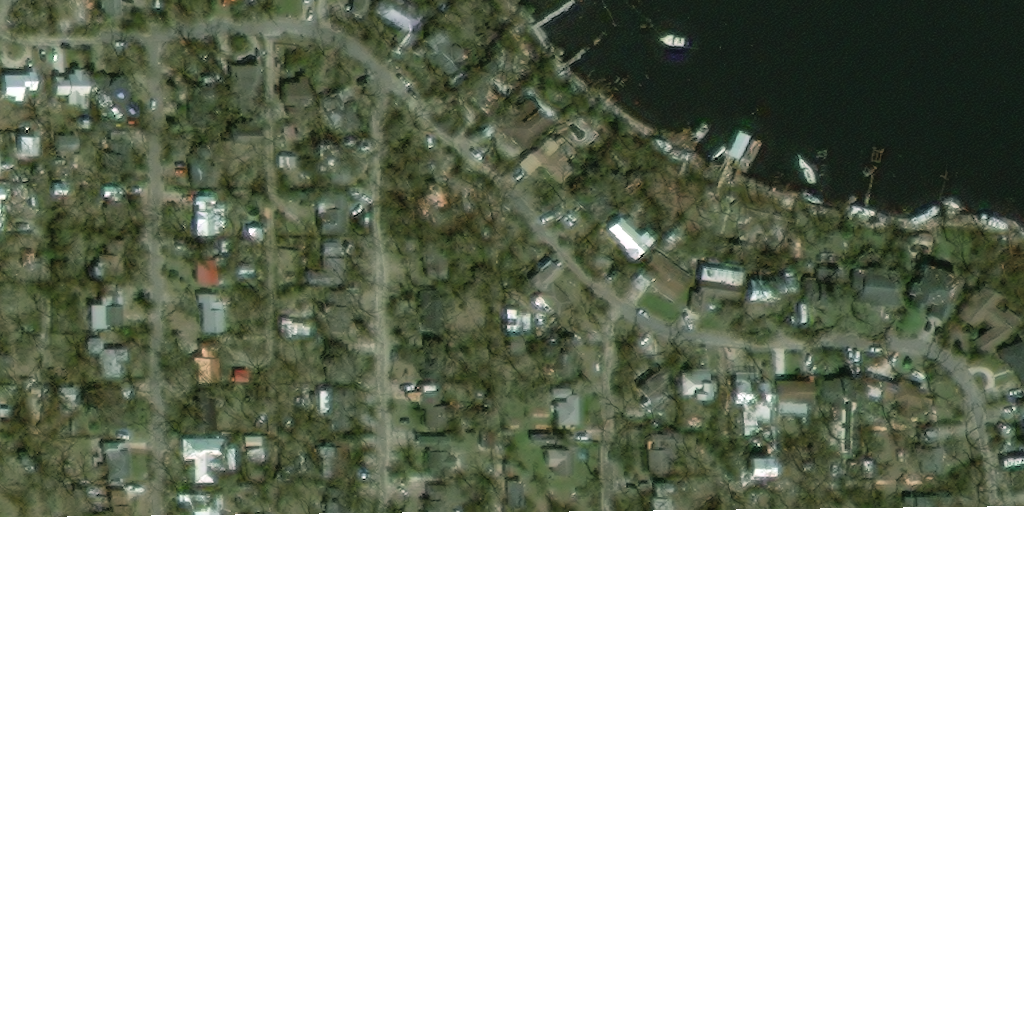major_damage: (904, 263, 958, 328), (406, 390, 446, 429), (300, 372, 329, 419), (240, 435, 273, 462), (528, 291, 550, 313)
minor_damage: (961, 286, 1014, 350), (631, 252, 693, 305), (853, 254, 901, 316), (689, 263, 731, 317), (551, 113, 593, 154), (766, 280, 808, 319), (311, 191, 345, 235), (512, 104, 550, 142), (186, 446, 224, 484), (99, 443, 129, 488), (869, 381, 890, 404), (571, 193, 591, 214), (105, 128, 119, 144), (5, 148, 21, 162), (175, 487, 193, 499), (236, 265, 249, 280)
no_damage: (531, 433, 575, 479), (83, 285, 123, 331), (892, 379, 928, 421), (994, 338, 1023, 388), (416, 436, 457, 469), (51, 69, 87, 106), (732, 381, 770, 416), (383, 0, 426, 30), (552, 387, 581, 426), (605, 216, 635, 249), (679, 367, 709, 400), (831, 375, 855, 404), (192, 264, 219, 289), (562, 346, 580, 377), (731, 132, 751, 157), (859, 145, 877, 171), (925, 169, 944, 188), (744, 139, 760, 161), (106, 0, 121, 15), (253, 226, 267, 240)
unclassified: (397, 254, 426, 317), (7, 231, 31, 261), (278, 207, 302, 228)
